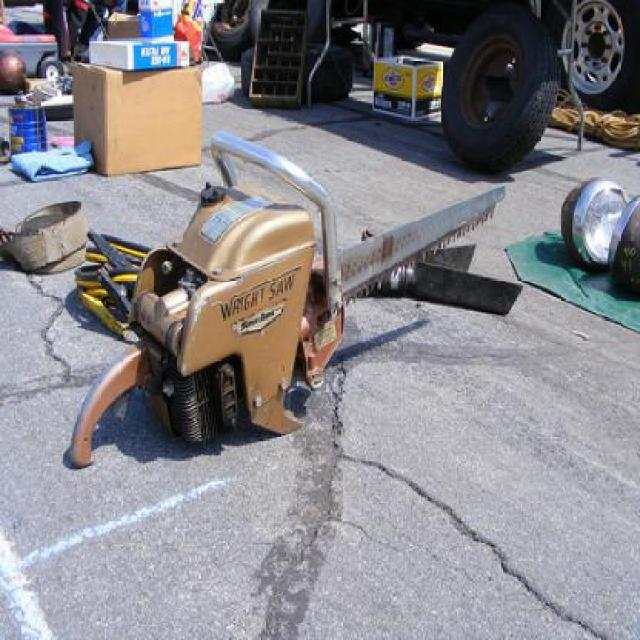Chainsaw: (68, 120, 507, 472)
